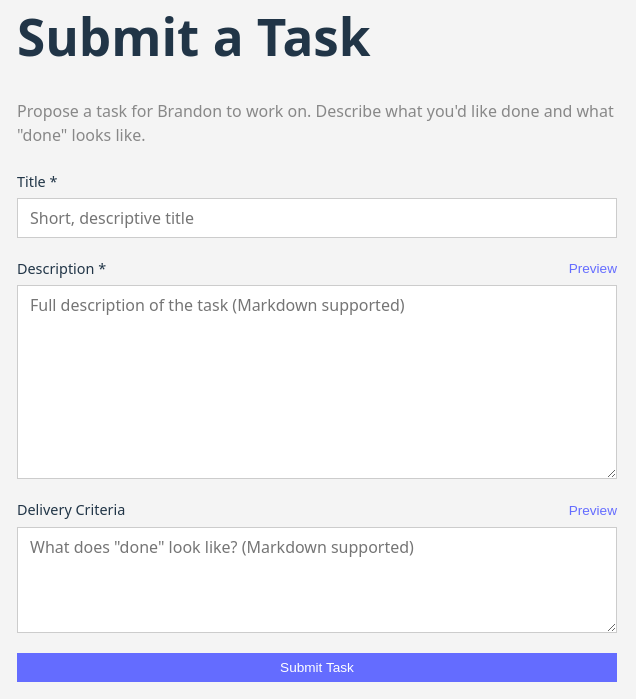
Scenario: SubmitTask (admin) › toggles markdown preview for description
In the text box labelled "Description *": (317, 382) x1=17 y1=285 x2=617 y2=479, type "**bold text**"
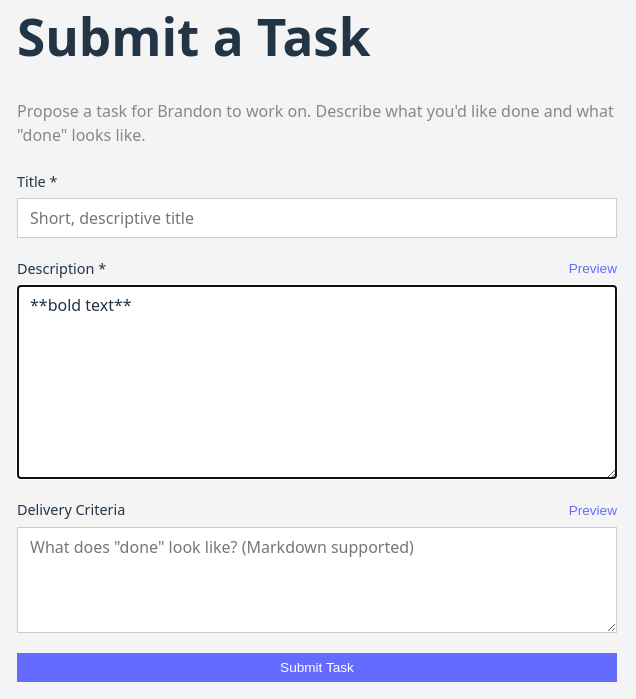
Click the button "Preview" in the row of "Description *": (593, 269) x1=569 y1=261 x2=617 y2=276
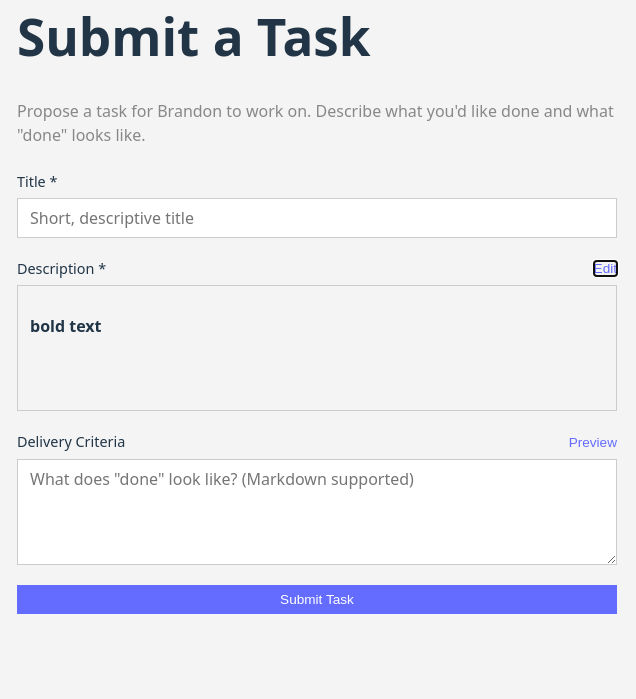
Result: the text "bold text" is shown at x1=30 y1=315 x2=102 y2=337
Click the button "Edit": (605, 269) x1=594 y1=261 x2=617 y2=276
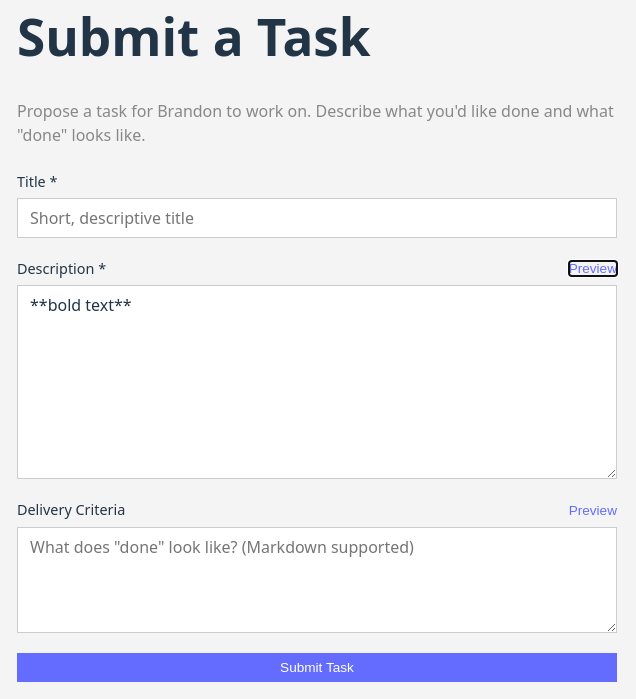
Result: the text box labelled "Description *" is shown at x1=17 y1=285 x2=617 y2=479
